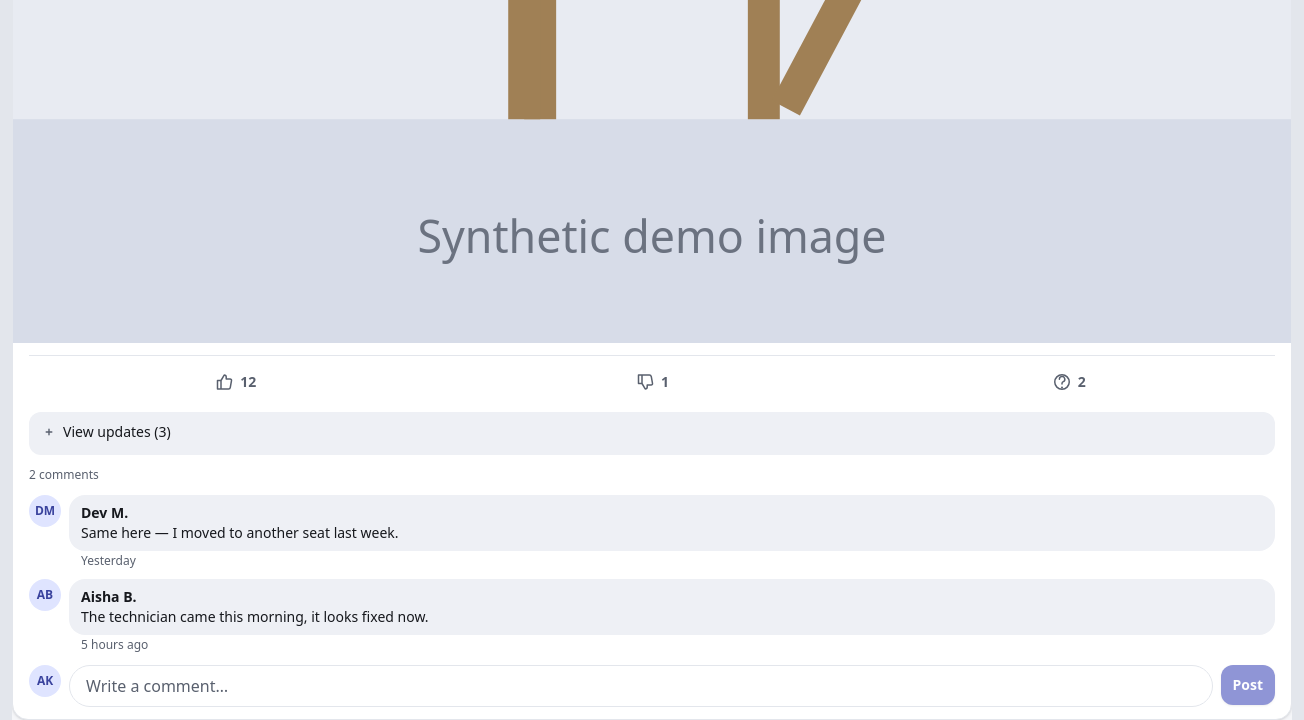
it: ReportCard (post) › reactions › increments Like when pressed and marks it active
(page scrolled)
Click the button named "Like": (235, 382) [29,360,442,404]
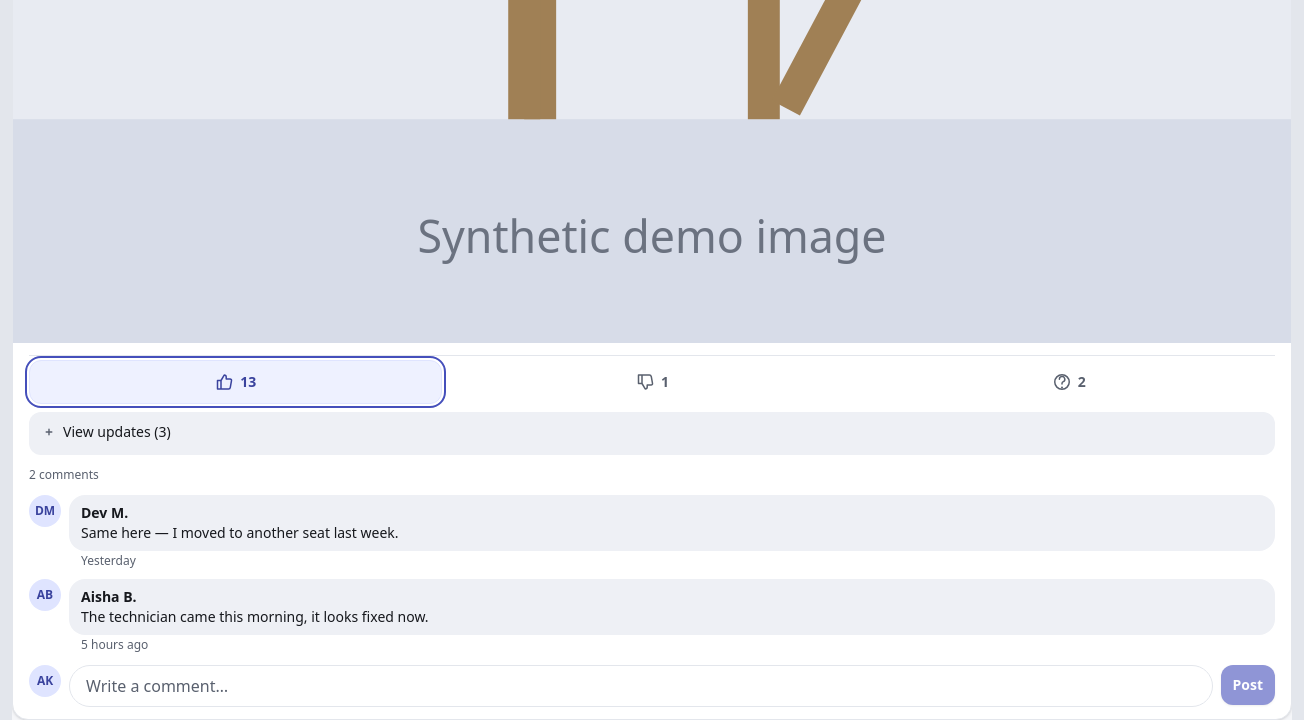
Check: the button named "Like" reads "13", box [29,360,442,404]
